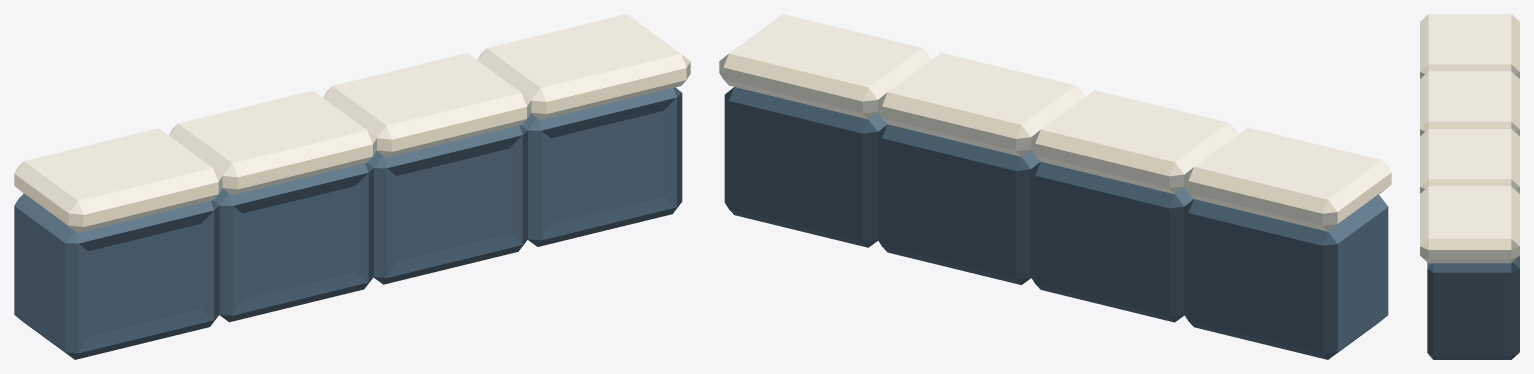
Rendered from Terrain_TopRun4R.gltf.
3 renders of one model, left to right at view 1: azimuth 30°, elevation 25°; view 2: azimuth 150°, elevation 25°; view 3: azimuth 270°, elevation 25°, orthographic. The views are drawn at different scales.
Parts seen in each view (by area): view 1: Terrain_TopRun4R_baked; view 2: Terrain_TopRun4R_baked; view 3: Terrain_TopRun4R_baked.
Part boxes in pixels (left/top/right/bottom): Terrain_TopRun4R_baked: left=14, top=14, right=690, bottom=359; Terrain_TopRun4R_baked: left=719, top=14, right=1391, bottom=359; Terrain_TopRun4R_baked: left=1420, top=14, right=1519, bottom=359.
Size of the model in its own units: 4.04 by 1 by 0.735.
